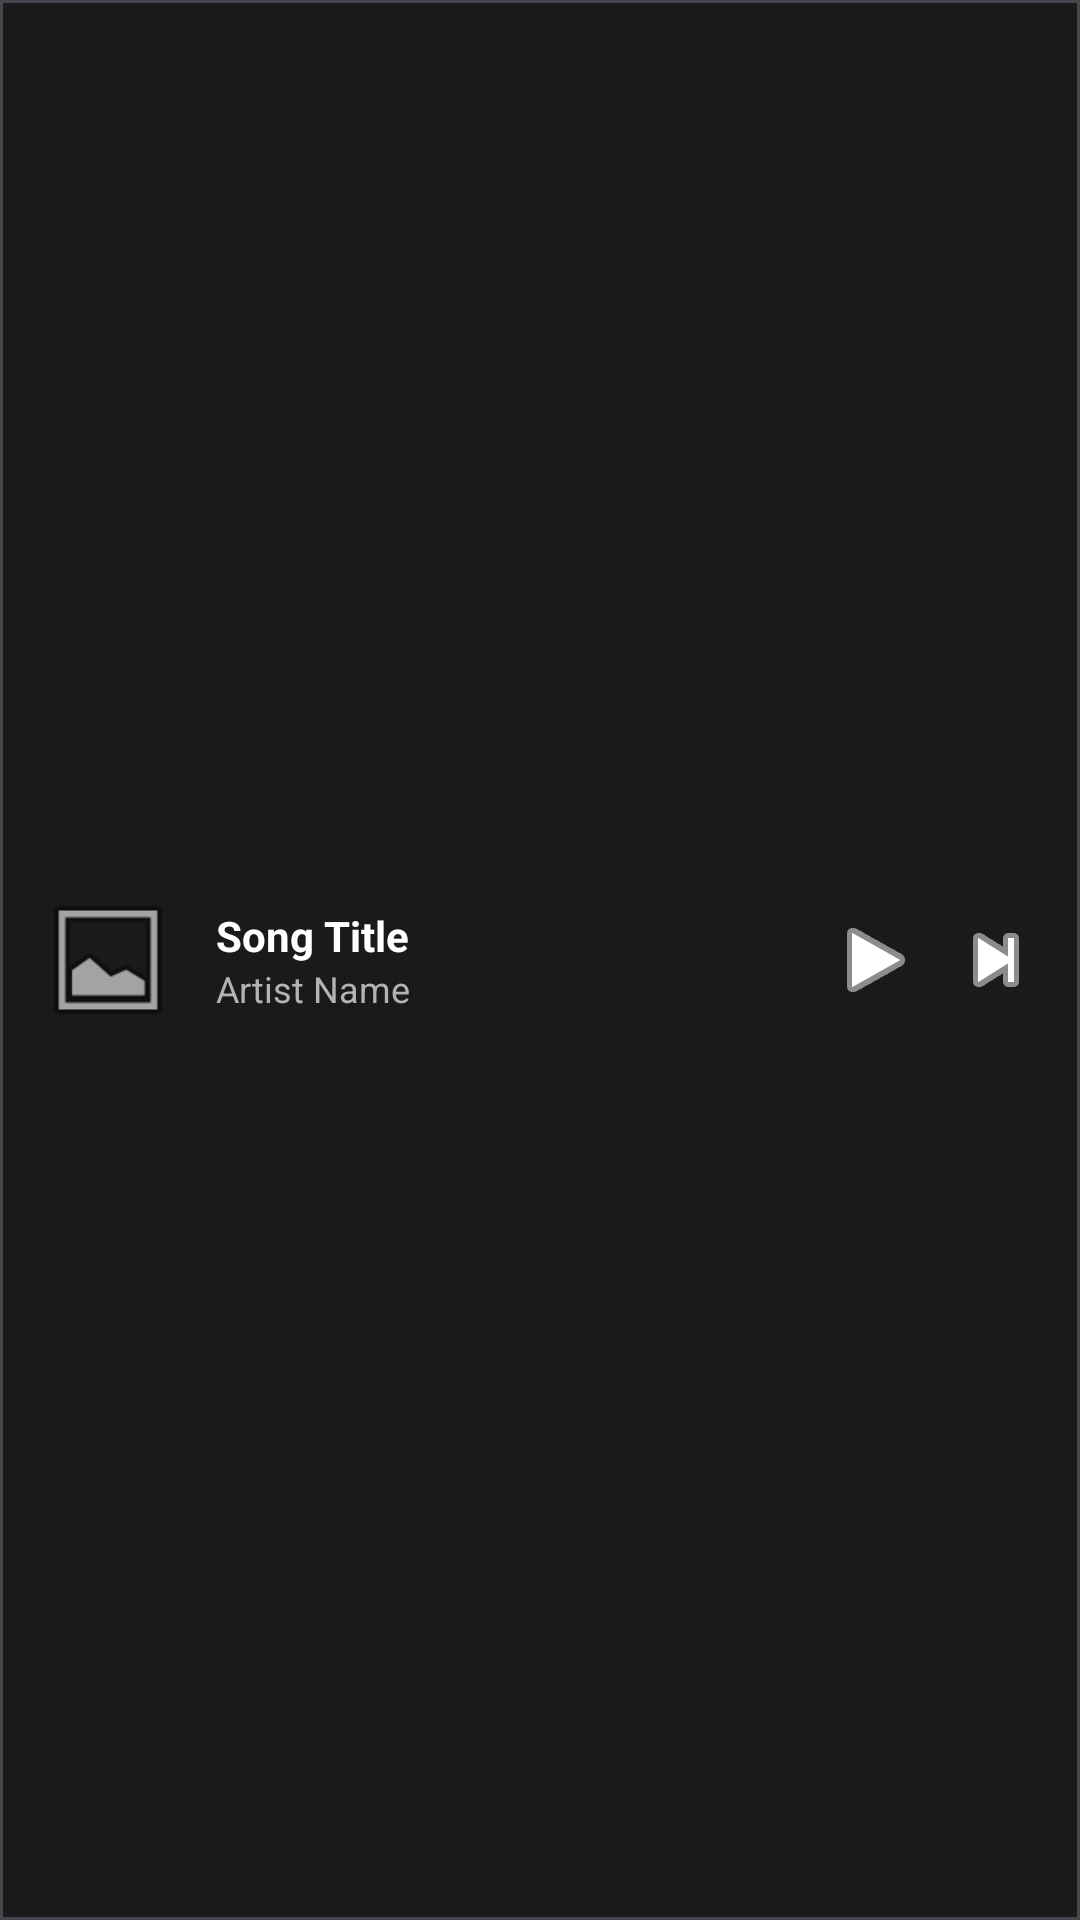

Point at icon controls on the screen. Image size 1080x1920, points as point (x, y).
gallery: point (108, 960)
Next: point (996, 960)
Play or Pause: point (876, 960)
